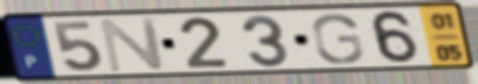2: (179, 15, 235, 72)
3: (240, 13, 290, 69)
5: (49, 18, 105, 73)
6: (369, 8, 424, 67)
G: (309, 12, 366, 66)
N: (96, 15, 168, 74)
